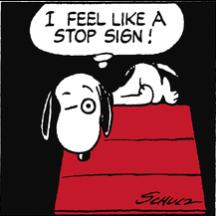snoopy: (39, 60, 181, 164)
